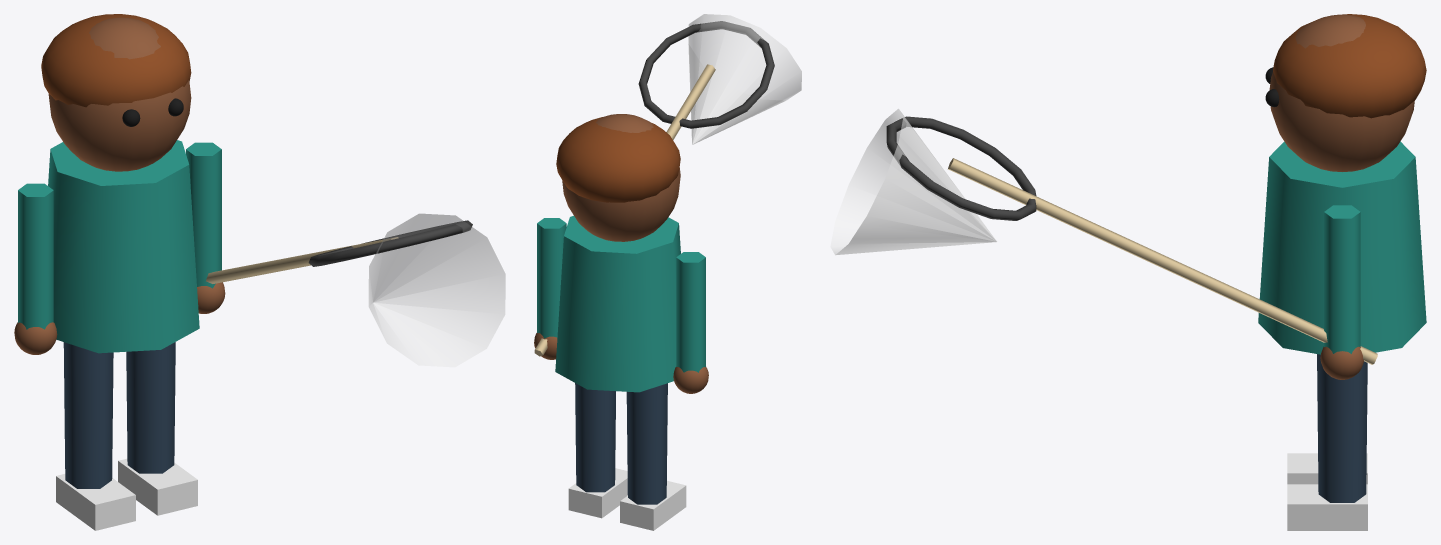
The model's file is kid_net_2.glb.
3 views of the same model, side by side, from view 1: azimuth 30°, elevation 25°; view 2: azimuth 150°, elevation 25°; view 3: azimuth 270°, elevation 25° (orthographic). The views are drawn at different scales.
Visible parts, largest first — view 1: object 1, armR, head, legL, legR, armL; view 2: object 1, armR, head, legL, legR, armL; view 3: armR, object 1, head, legR, legL.
Boxes of the visible parts, <box> form: object 1: <box>48,140,199,353</box>; armR: <box>186,142,505,367</box>; head: <box>41,14,191,171</box>; legL: <box>56,342,135,530</box>; legR: <box>118,342,197,515</box>; armL: <box>14,183,57,354</box>; object 1: <box>555,215,680,392</box>; armR: <box>534,14,801,359</box>; head: <box>556,114,680,241</box>; legL: <box>620,383,686,530</box>; legR: <box>568,383,627,518</box>; armL: <box>673,252,708,393</box>; armR: <box>830,109,1377,379</box>; object 1: <box>1258,141,1426,354</box>; head: <box>1265,14,1426,171</box>; legR: <box>1287,354,1367,530</box>; legL: <box>1287,453,1367,484</box>.
Size of the model in its own units: 0.835 by 1.46 by 1.63.
